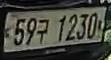0: (88, 11, 97, 38)
1: (56, 12, 66, 42)
2: (67, 13, 77, 41)
3: (78, 11, 88, 40)
5: (13, 17, 26, 45)
9: (26, 17, 37, 46)
구: (37, 17, 49, 46)
